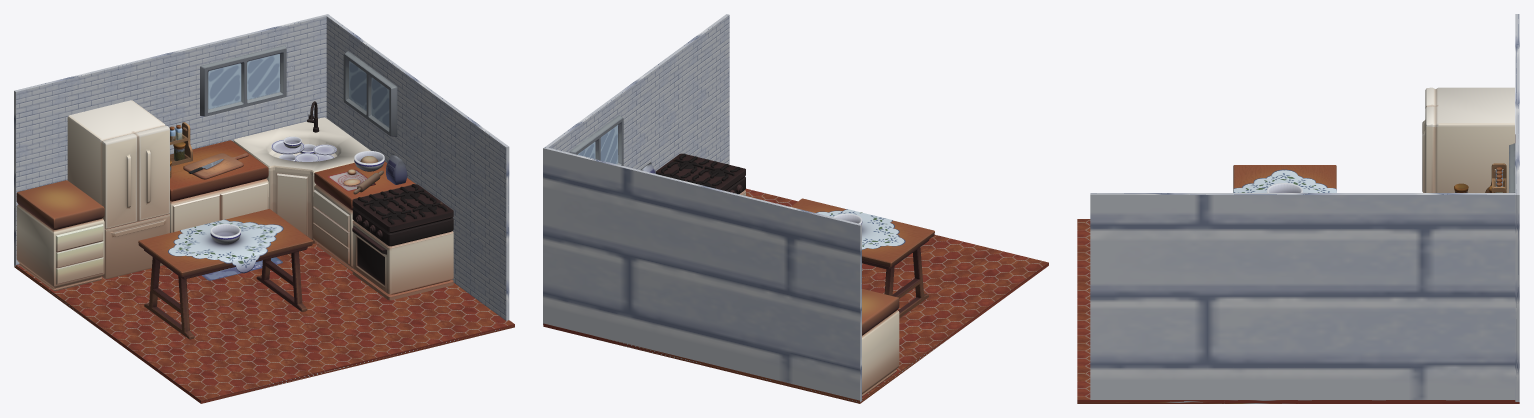
Rendered from Kitchen.fbx.
The picture shows the model from 3 angles, left to right: view 1: azimuth 30°, elevation 25°; view 2: azimuth 150°, elevation 25°; view 3: azimuth 270°, elevation 25°; orthographic projection. The views are drawn at different scales.
Visible parts, largest first — view 1: floor 01, wall 01, wall 02, fridge 01, stove 01, counter 01, sink 01, table 01, counter 02, window 01, counter 03, tablecloth 01 (+6 smaller); view 2: wall 01, wall 02, floor 01, counter 01, table 01, stove 01, window 02, tablecloth 01; view 3: wall 02, fridge 01, floor 01, wall 01, table 01, tablecloth 01.
Part boxes in pixels (box(x1,y1,x2,y2)): floor 01: box(14, 243, 514, 403); wall 01: box(14, 14, 329, 266); wall 02: box(326, 15, 509, 320); fridge 01: box(67, 100, 169, 278); stove 01: box(352, 184, 453, 300); counter 01: box(16, 180, 104, 291); sink 01: box(233, 101, 370, 243); table 01: box(138, 209, 312, 339); counter 02: box(169, 140, 268, 232); window 01: box(200, 45, 286, 116); counter 03: box(313, 161, 415, 271); tablecloth 01: box(168, 219, 283, 273); wall 01: box(543, 147, 861, 401); wall 02: box(545, 14, 729, 171); floor 01: box(543, 188, 1048, 403); counter 01: box(862, 288, 899, 396); table 01: box(791, 198, 934, 318); stove 01: box(655, 153, 745, 195); window 02: box(569, 115, 623, 165); tablecloth 01: box(816, 209, 905, 249); wall 02: box(1090, 193, 1515, 399); fridge 01: box(1422, 87, 1514, 192); floor 01: box(1077, 219, 1519, 403); wall 01: box(1515, 14, 1519, 401); table 01: box(1233, 165, 1336, 188); tablecloth 01: box(1233, 169, 1336, 192).
Size of the model in its own units: 6127 by 3297 by 6319.
Materials: 35 (35 with a texture image).
